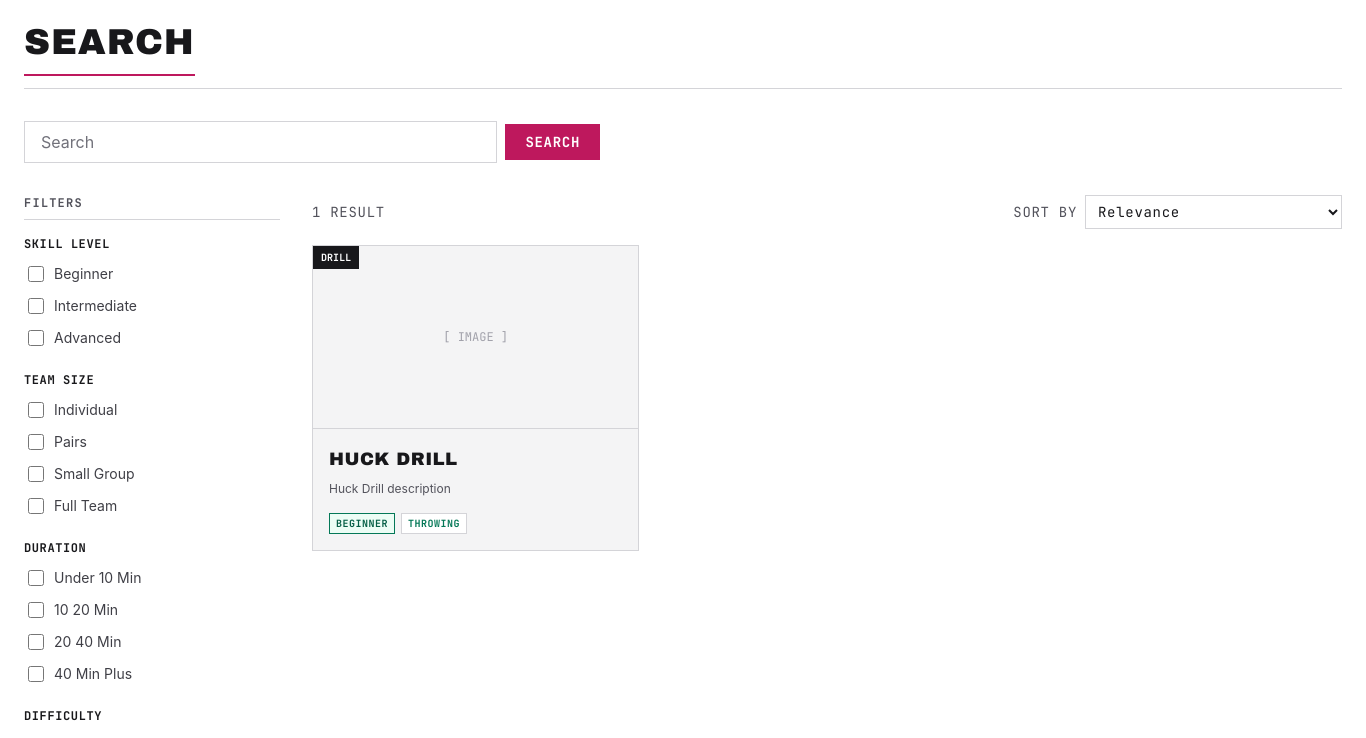
Test: Search page — query and filters › combines categories with AND: skill level + focus are both sent
Expected: the link "Huck Drill" is shown, [329, 449, 458, 469]
Click the checkbox labelled "beginner". click: coordinates (36, 274)
box: [28, 266, 44, 282]
(page scrolled)
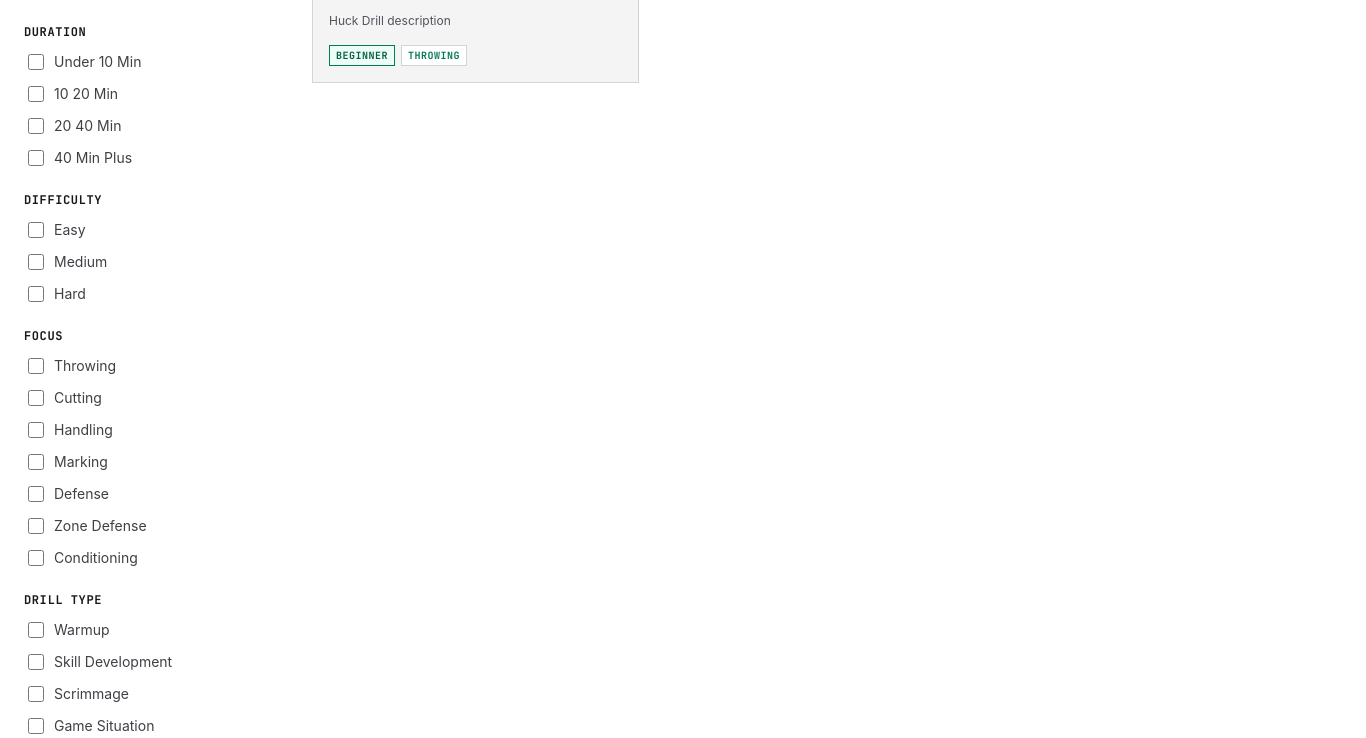
Click the checkbox labelled "throwing". click: coordinates (36, 366)
box: [28, 358, 44, 374]
(page scrolled)
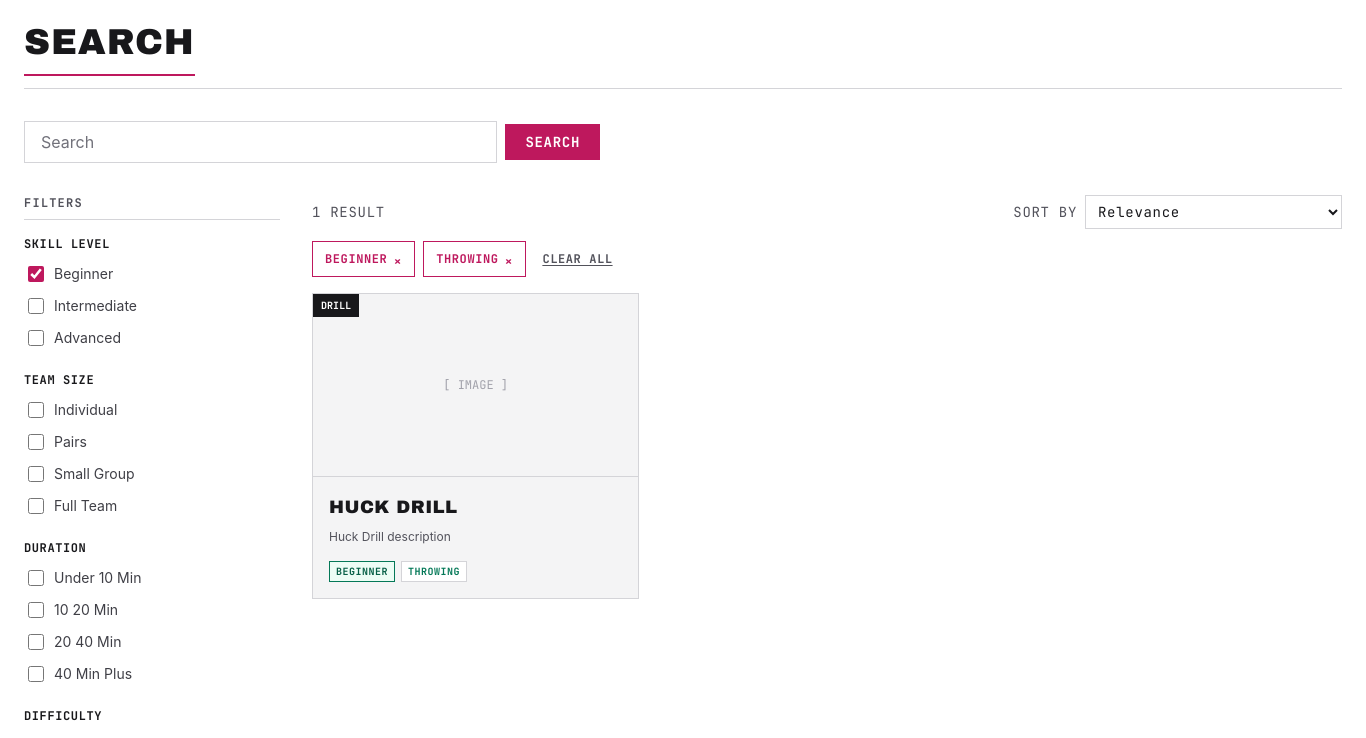
Expected: the button with aria-label "Remove filter Focus: throwing" is shown, [423, 241, 526, 277]
